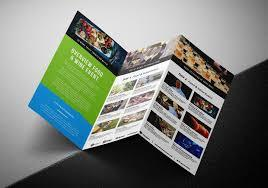paper: (31, 16, 234, 176)
